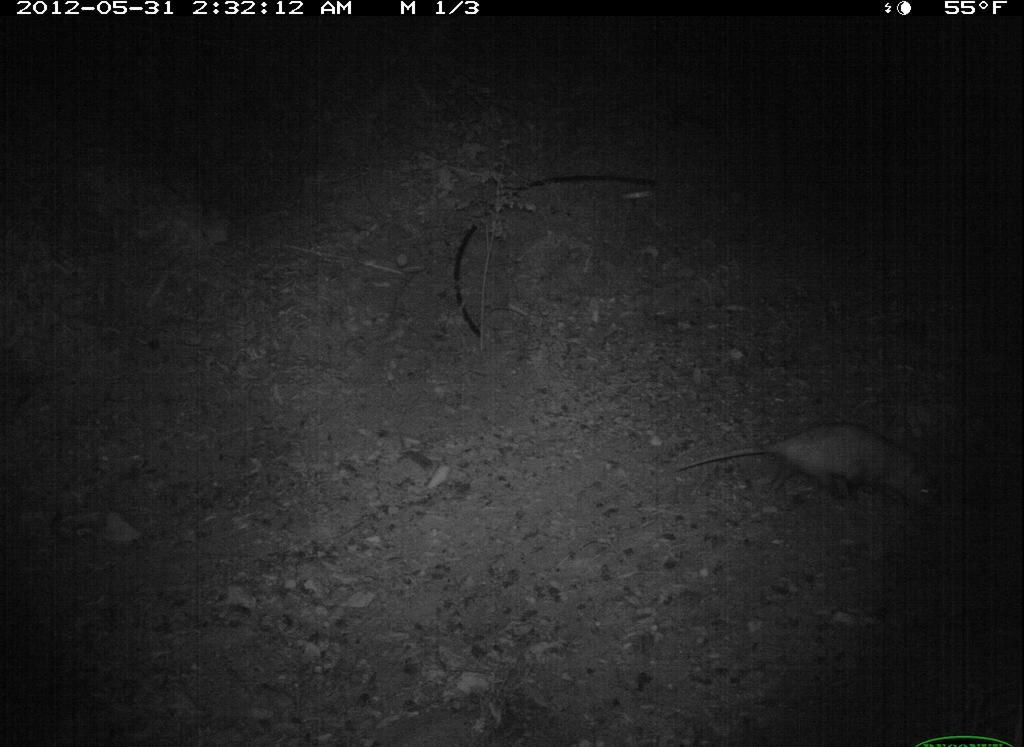opossum: (670, 399, 959, 536)
